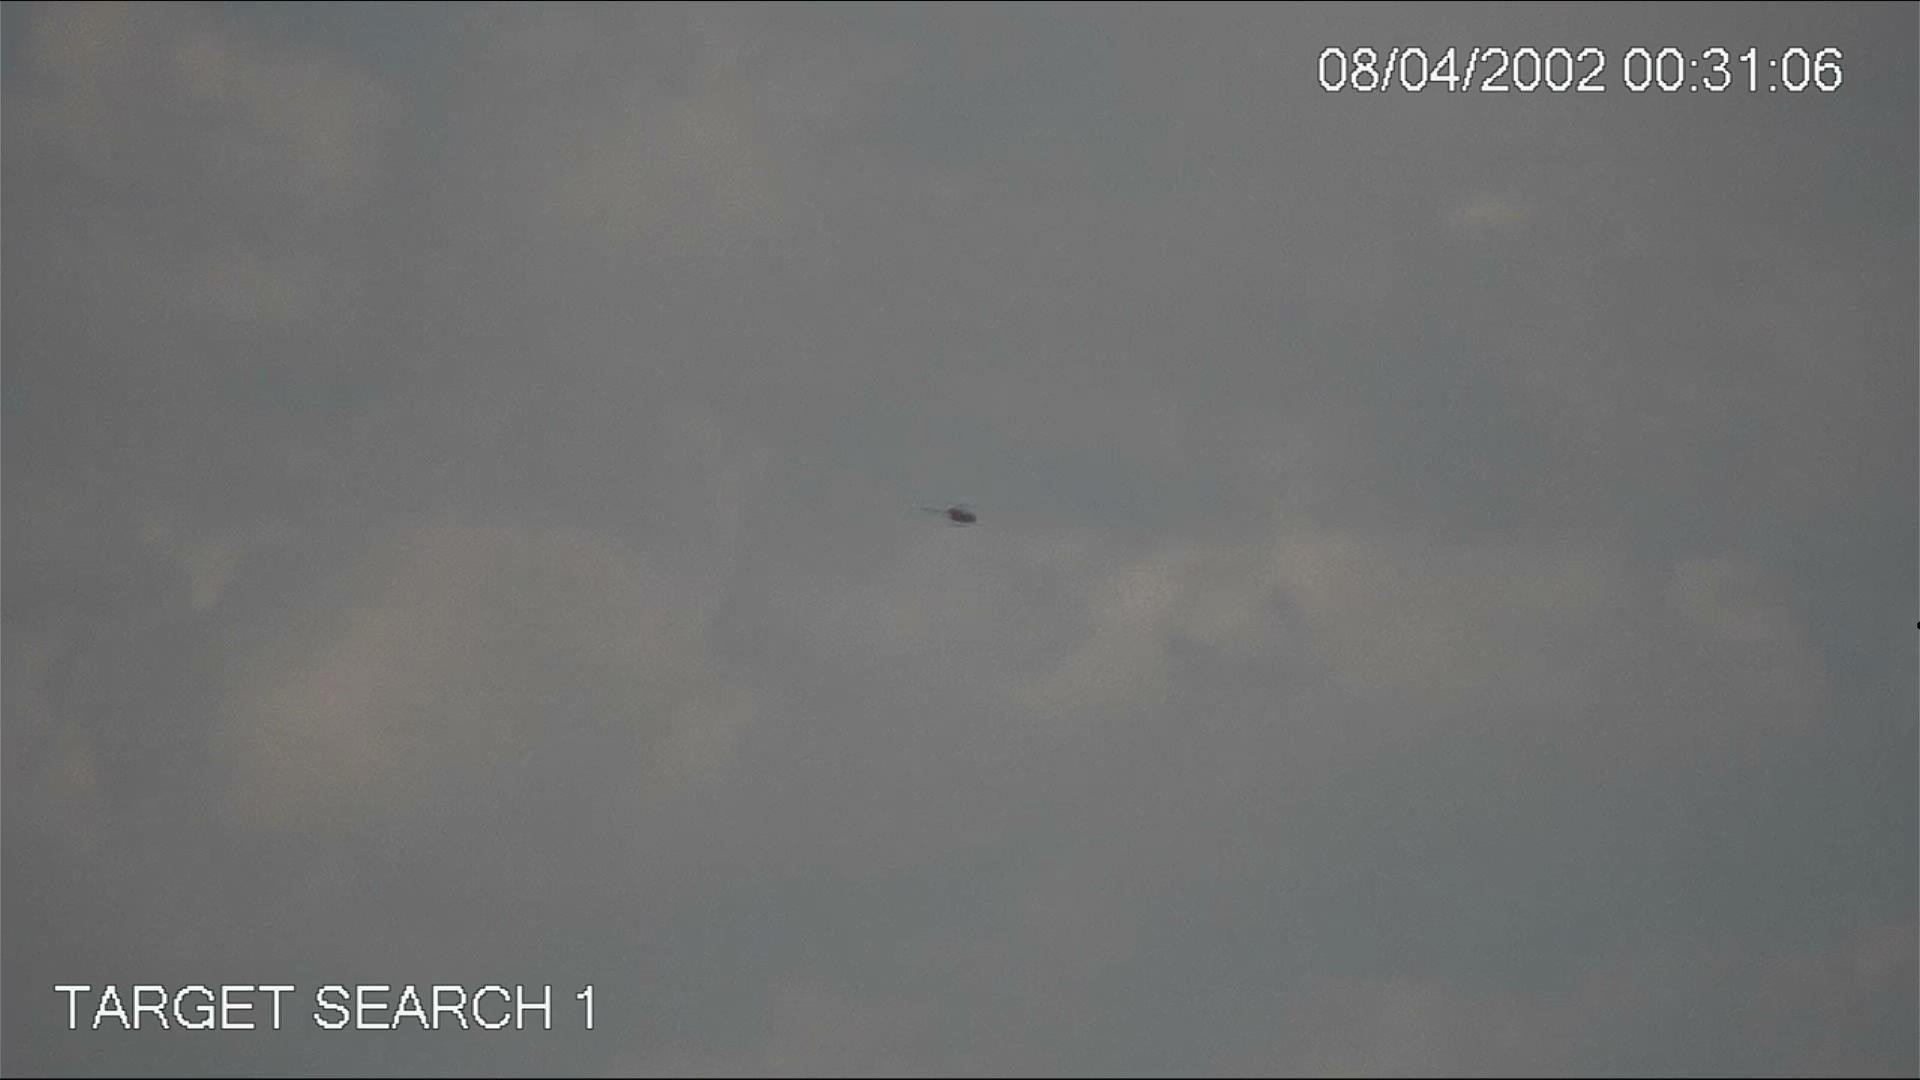SU_30: (910, 496, 984, 527)
